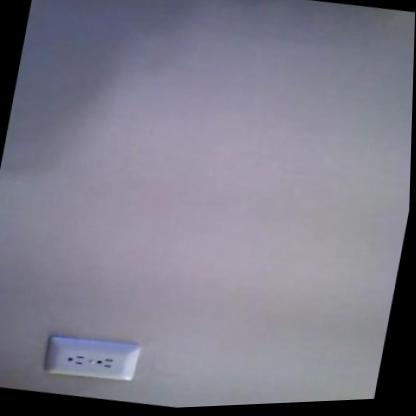OUTLET: (40, 330, 139, 386)
